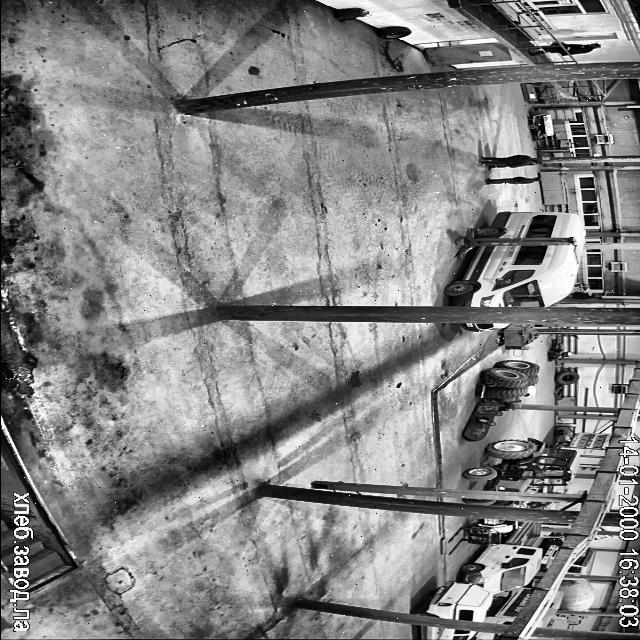car: (444, 212, 585, 307), (462, 324, 508, 332)
car lift: (455, 228, 576, 256), (576, 248, 579, 250)
fire extinguisher: (334, 8, 368, 21)
mechanic: (531, 44, 599, 56), (479, 155, 540, 168), (485, 176, 540, 184), (486, 164, 500, 170), (522, 162, 540, 165), (500, 165, 516, 168)
tractor: (462, 438, 580, 492), (463, 498, 500, 504)
truck: (461, 522, 541, 593), (412, 581, 492, 620), (484, 588, 532, 624), (535, 592, 562, 627), (567, 548, 595, 574), (421, 627, 474, 640), (542, 536, 563, 564), (476, 632, 498, 640)
